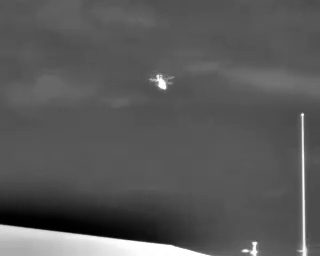HELICOPTER: (145, 67, 181, 97)
